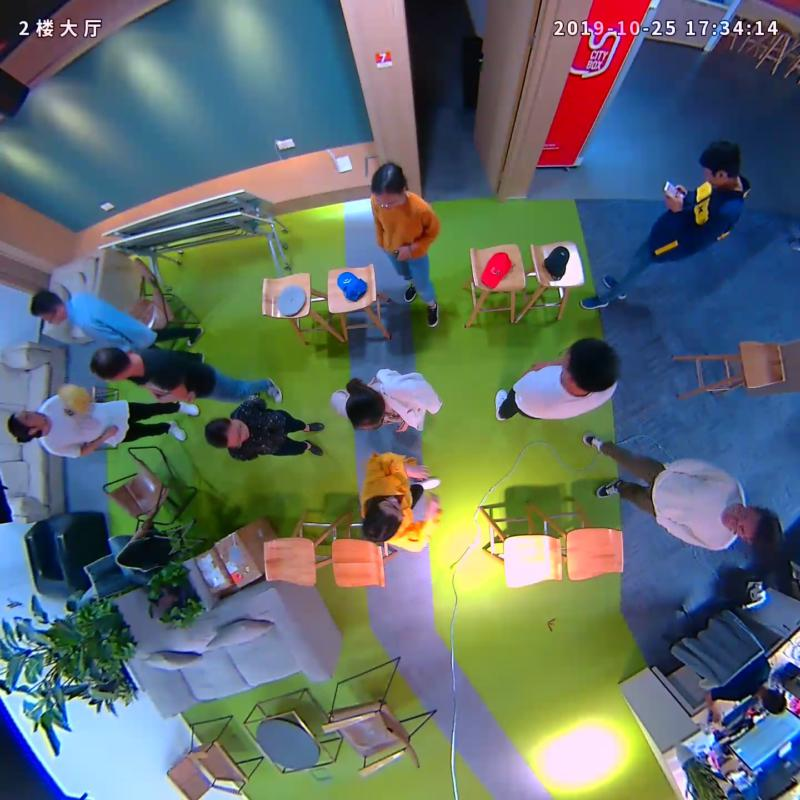head: (561, 337, 619, 393), (722, 504, 782, 550), (362, 497, 403, 544), (700, 138, 740, 185), (371, 162, 408, 209), (346, 388, 386, 431), (204, 416, 250, 450), (89, 347, 131, 382), (8, 410, 49, 442), (30, 289, 66, 325)
